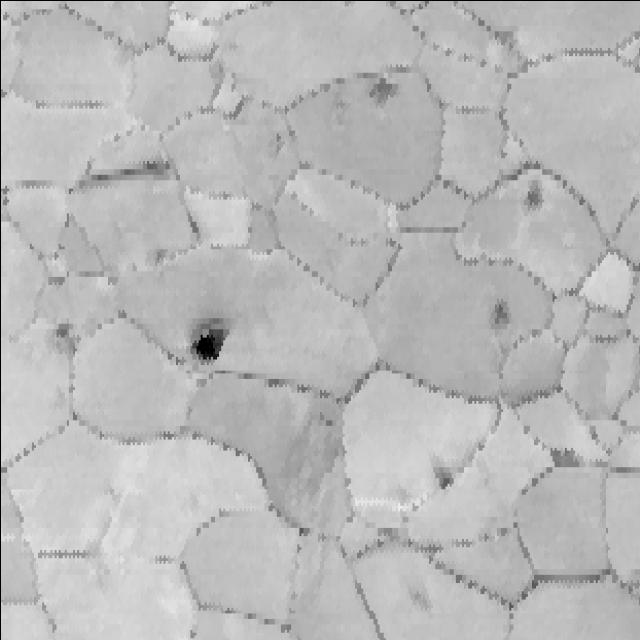good_void: (291, 405, 342, 494), (178, 312, 235, 372), (127, 153, 176, 184), (547, 434, 576, 486), (362, 77, 406, 109), (523, 175, 550, 220), (427, 456, 458, 494), (490, 293, 516, 337), (404, 579, 433, 617), (60, 324, 83, 366), (272, 131, 282, 158)
